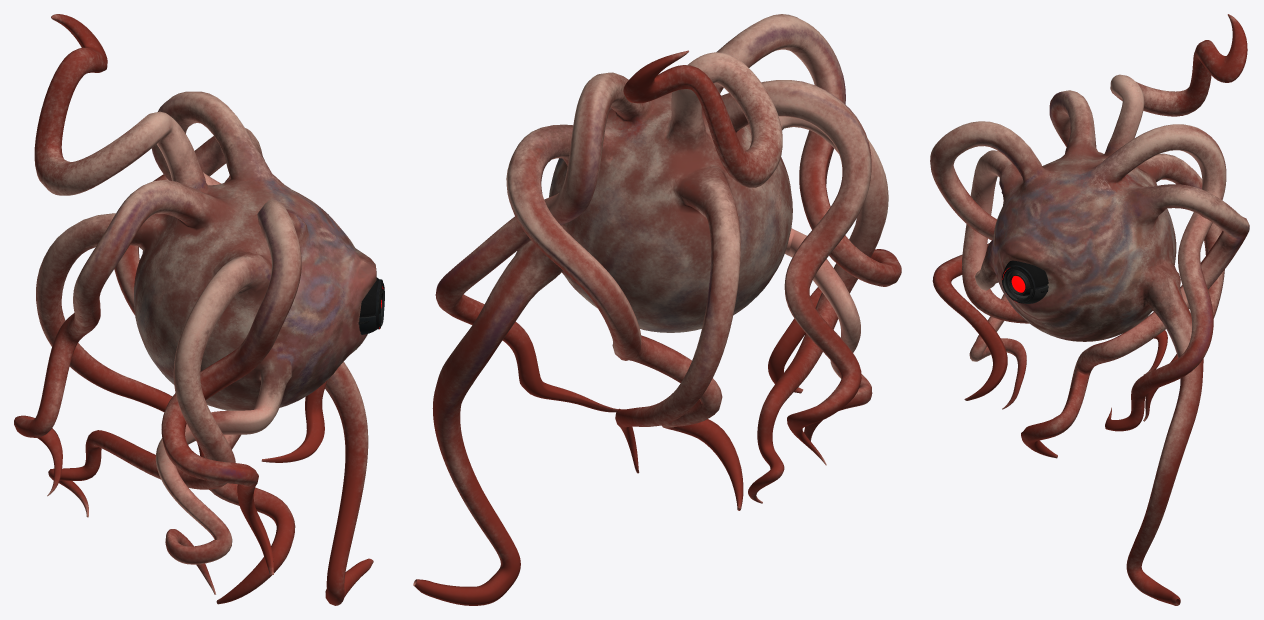
Rendered from monster_eye.glb.
3 views of the same model, side by side, from view 1: azimuth 30°, elevation 25°; view 2: azimuth 150°, elevation 25°; view 3: azimuth 270°, elevation 25° (orthographic). The views are drawn at different scales.
Parts seen in each view (by area): view 1: polySurface226, Mesh2_phong34_0; view 2: polySurface226; view 3: polySurface226, Mesh2_phong34_0.
Boxes of the visible parts, bbox=[...] form: polySurface226: bbox=[14, 14, 376, 605]; Mesh2_phong34_0: bbox=[358, 277, 384, 334]; polySurface226: bbox=[413, 14, 901, 605]; polySurface226: bbox=[930, 14, 1249, 605]; Mesh2_phong34_0: bbox=[1002, 260, 1048, 303].
Bounding box in the file's own units: 0.0661 × 0.1011 × 0.0597.
2 materials, 2 textured.
